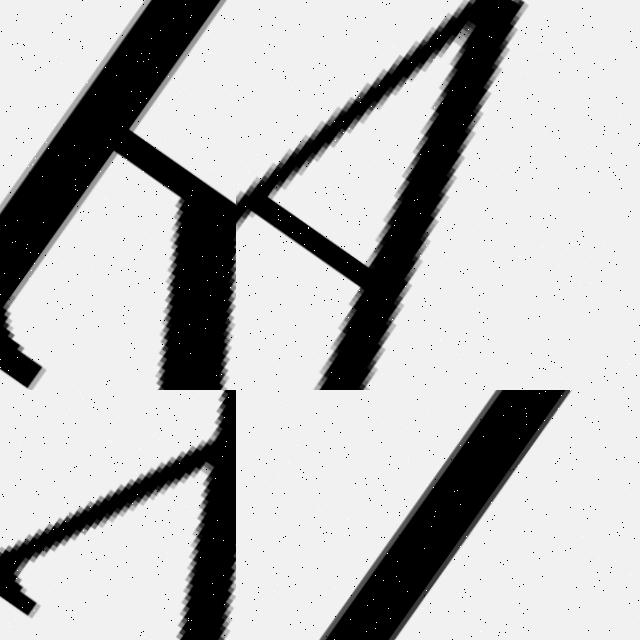A: (236, 0, 640, 390)
I: (317, 390, 574, 640)
R: (0, 0, 236, 390)
X: (0, 390, 236, 640)
